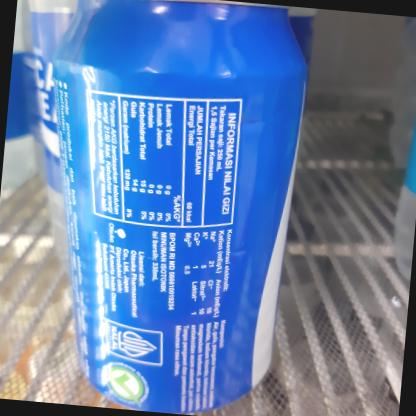alumunium_can: (24, 0, 320, 416)
